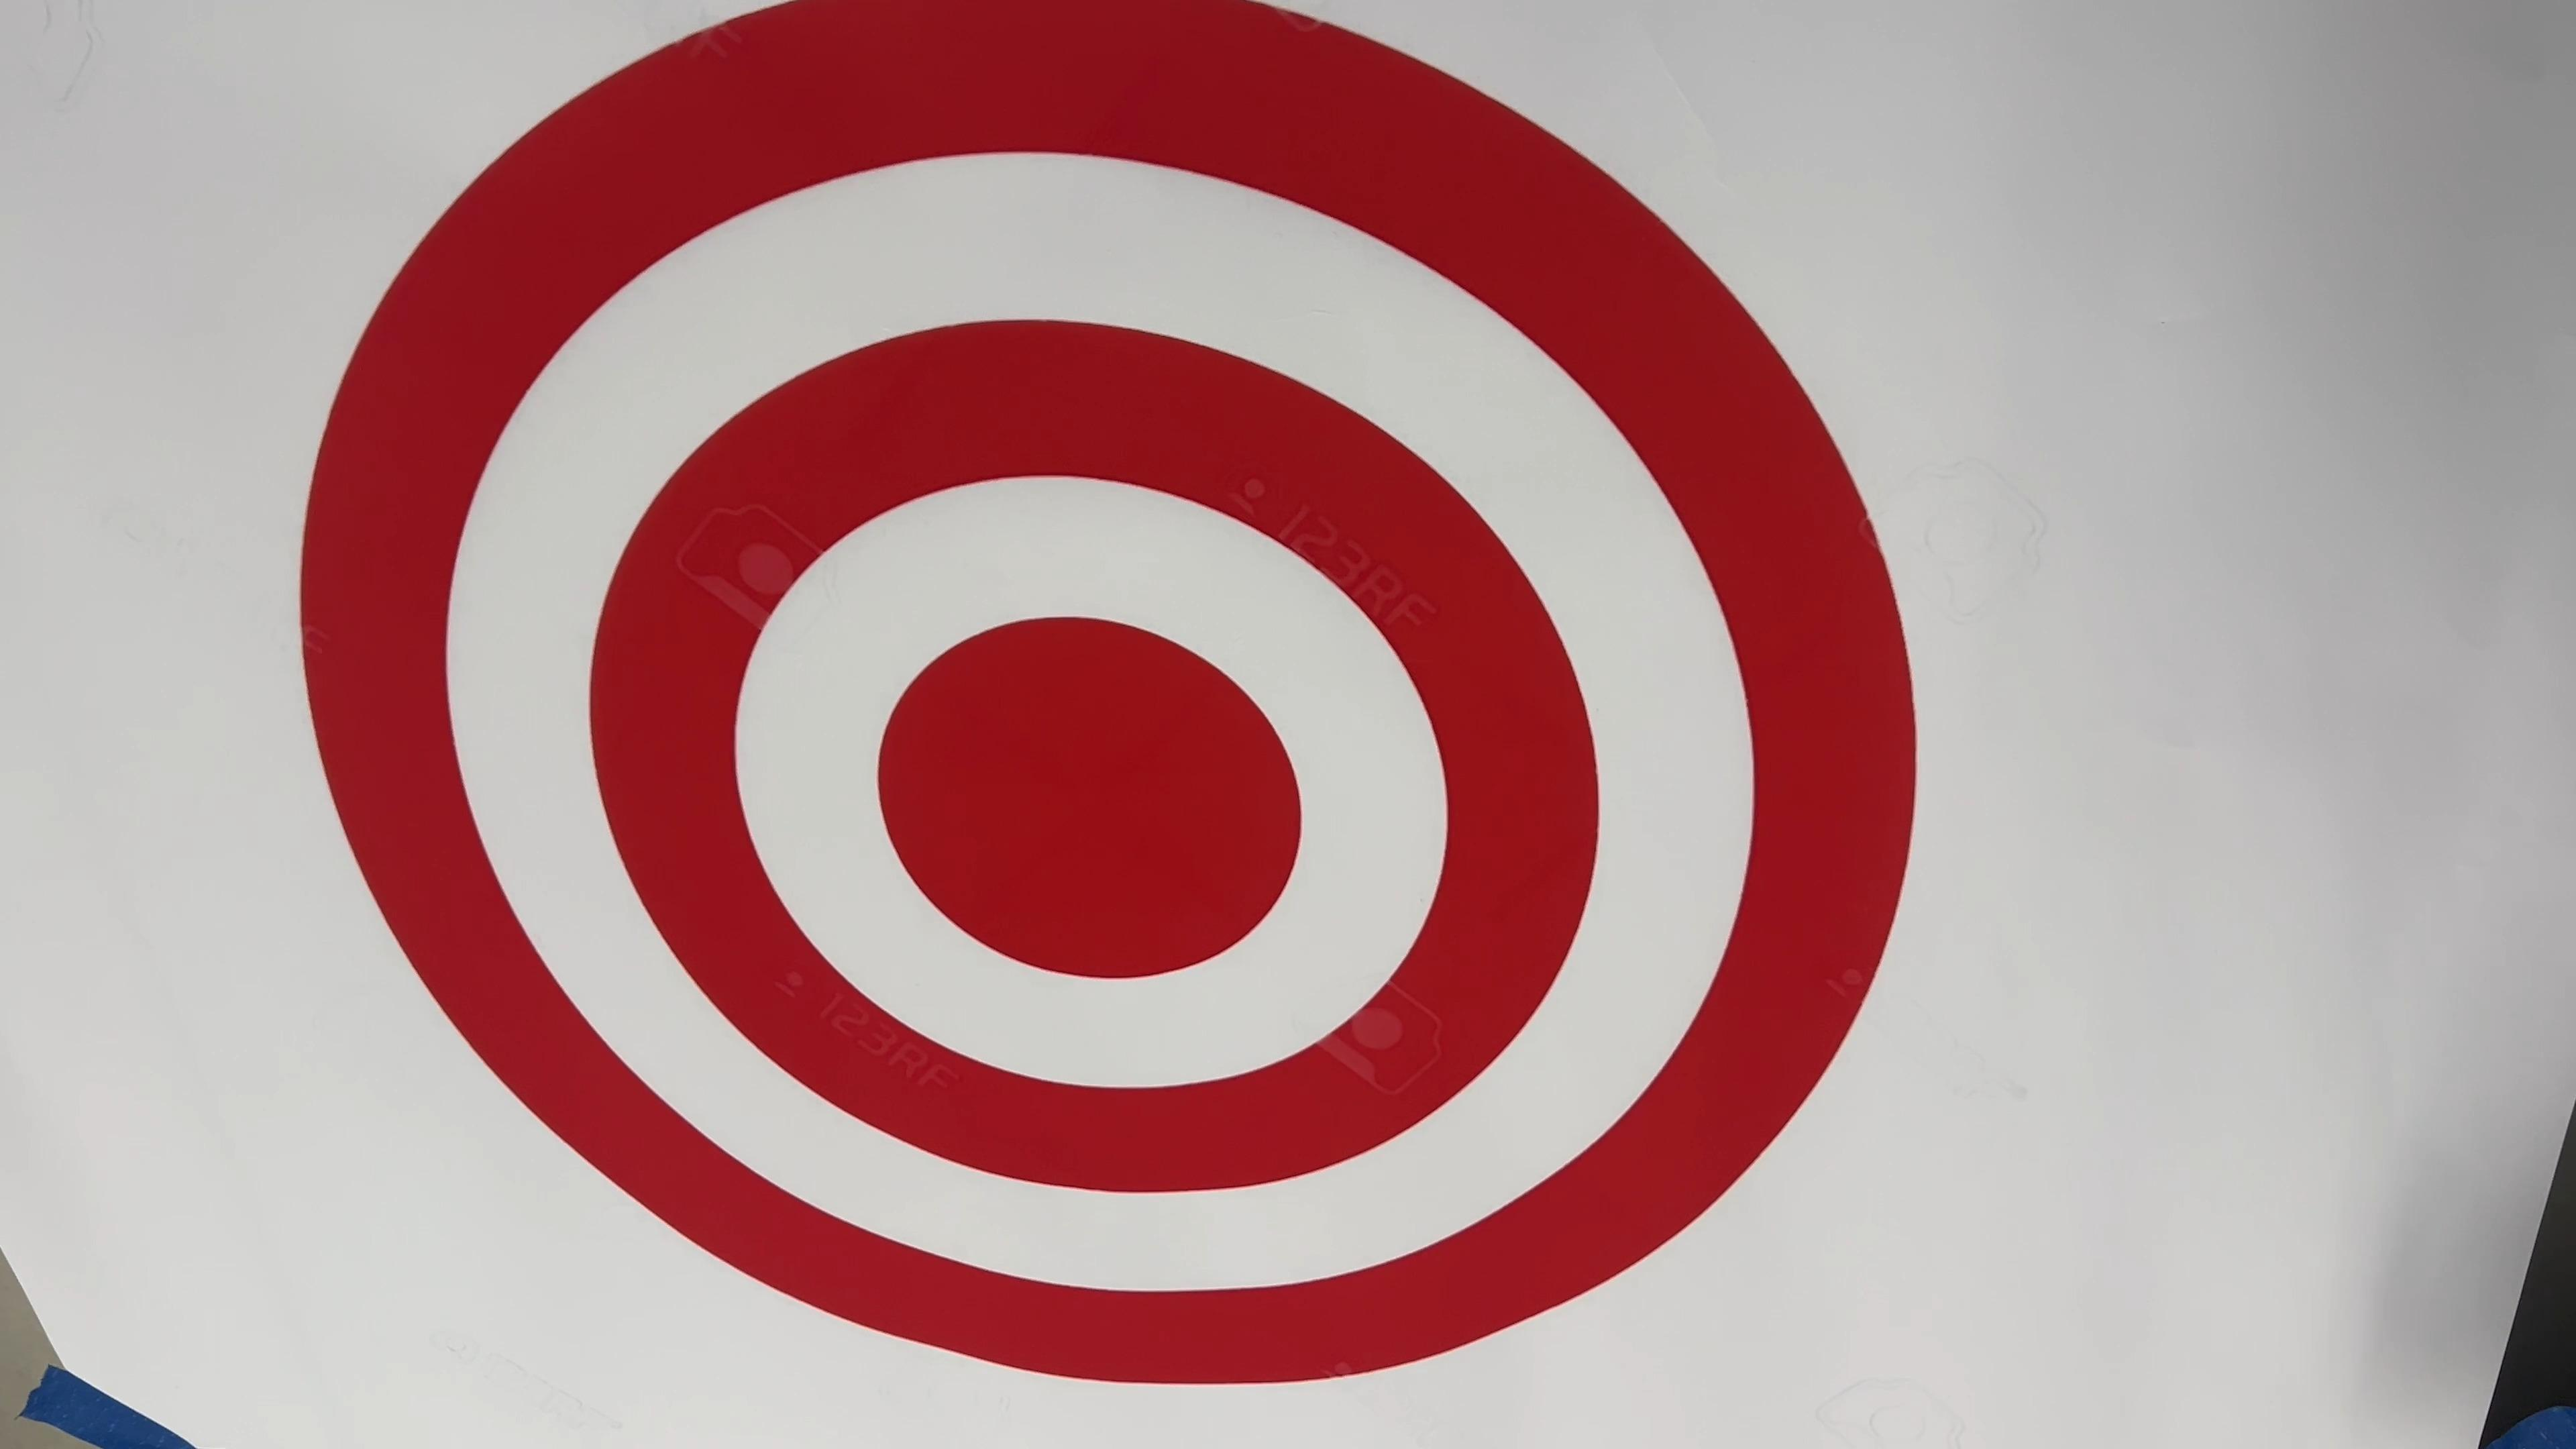target_red: (202, 5, 1966, 1449)
